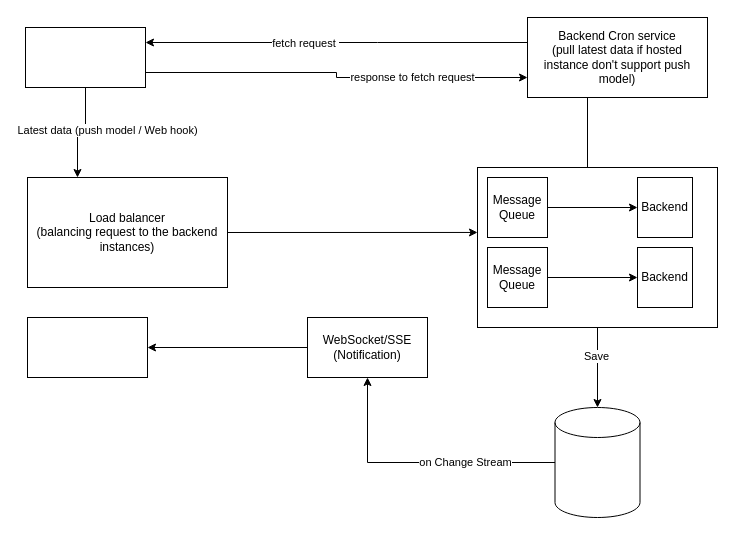
This 735x535 diagram has some shape labels left out. The box of each missing label's shape, as (x1, y1, x2, y2) in pixels:
Frontend: (26, 316, 148, 378)
Hosted Instances: (24, 26, 146, 88)
MongoDB cluster: (554, 406, 640, 518)
